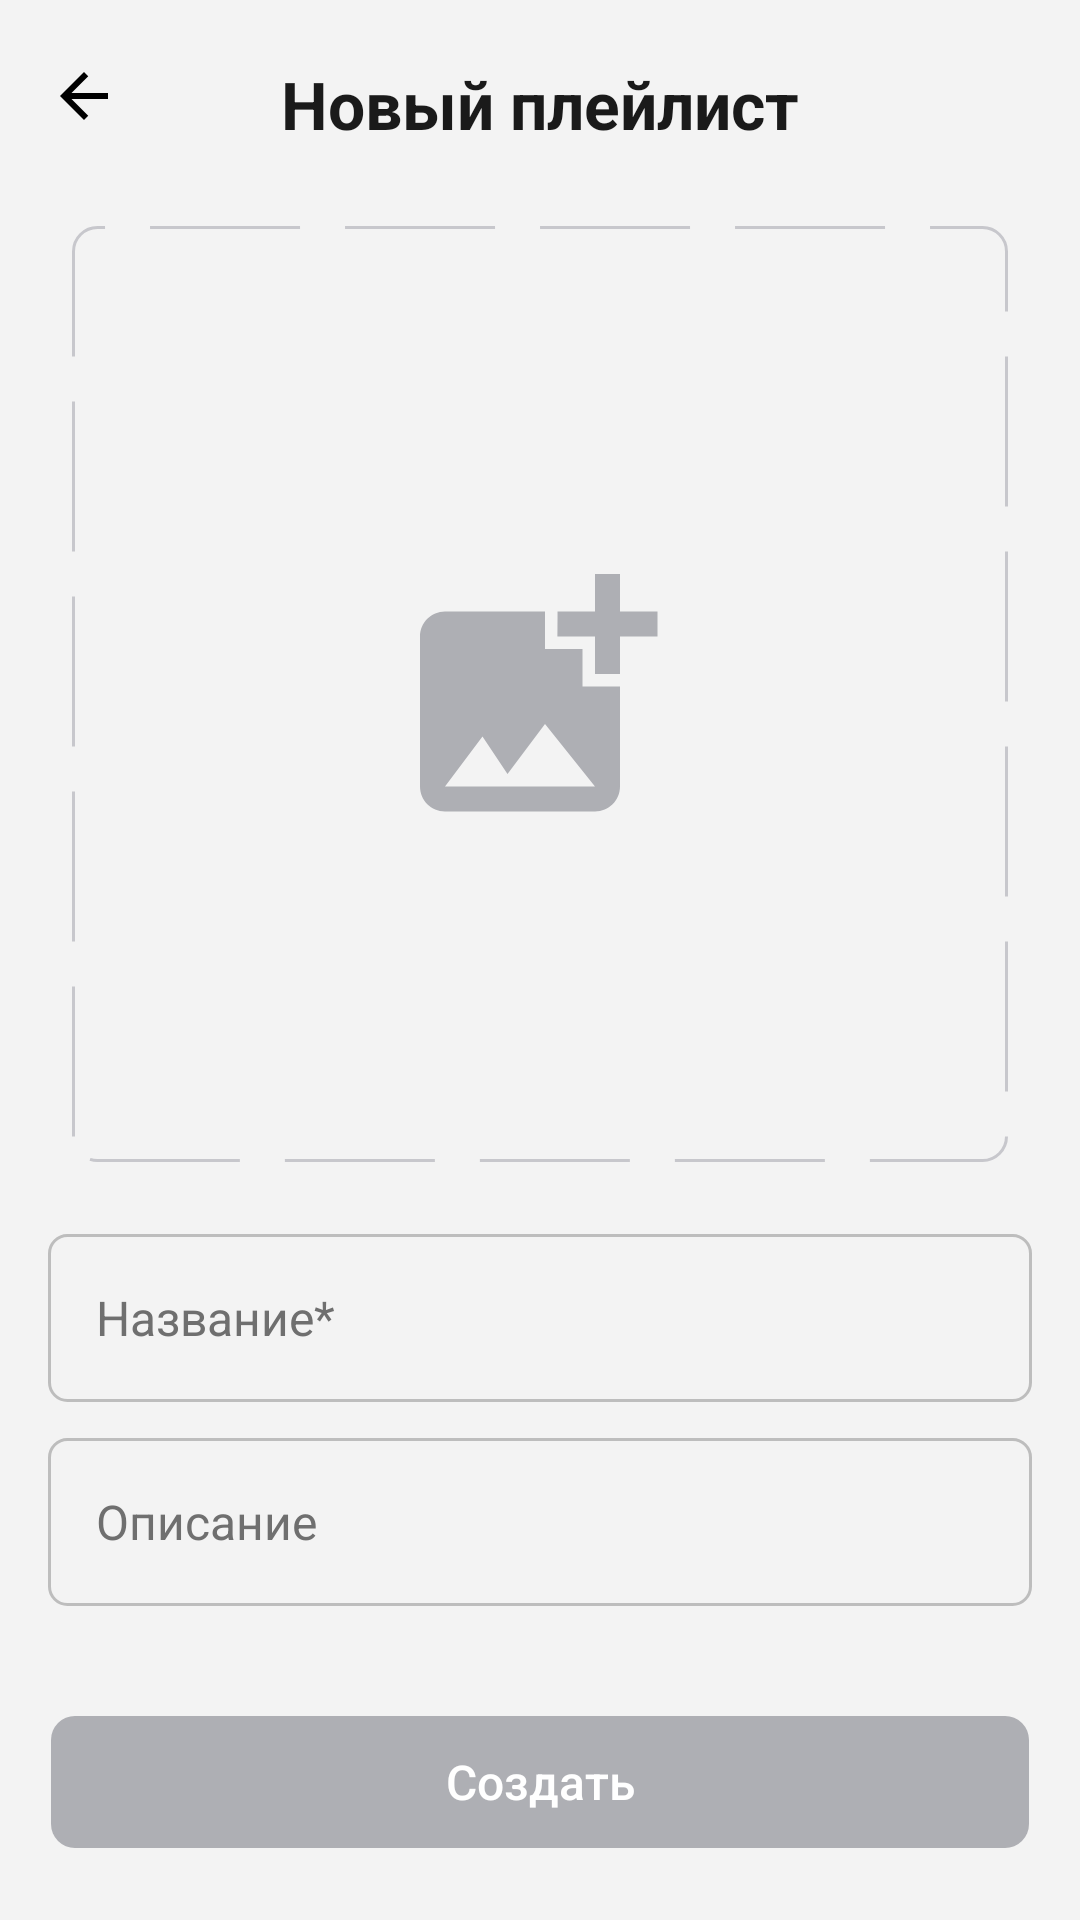

Where icons sit on this 1080*1920 app screen, as [x1,y1,x2,y2]:
Назад: [60,72,108,120]
